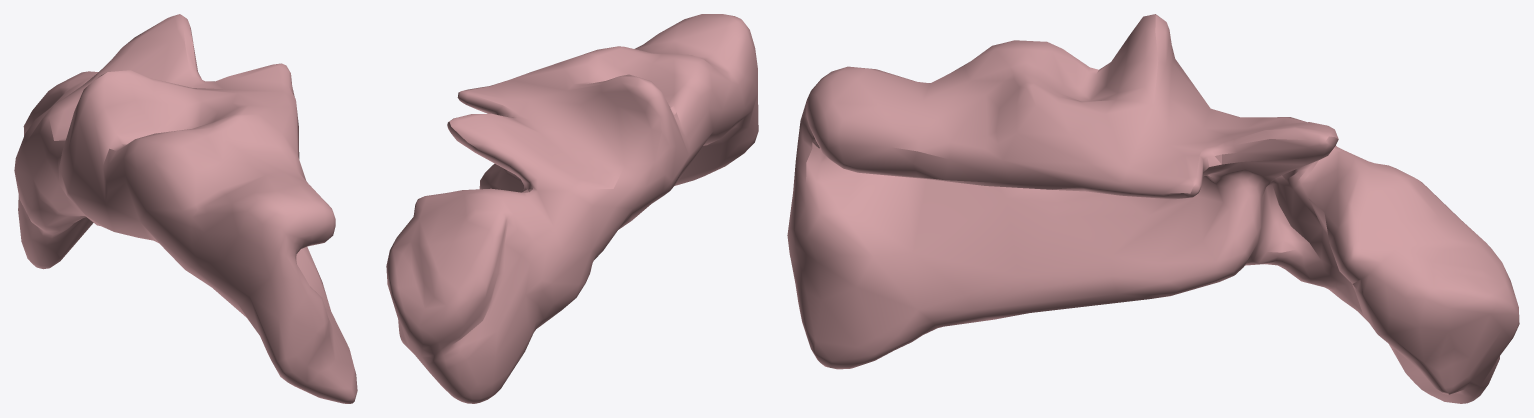
The model's file is fma72804_fj1840.glb.
3 renders of one model, left to right at view 1: azimuth 30°, elevation 25°; view 2: azimuth 150°, elevation 25°; view 3: azimuth 270°, elevation 25°, orthographic. The views are drawn at different scales.
Parts seen in each view (by area): view 1: FMA72804_FJ1840; view 2: FMA72804_FJ1840; view 3: FMA72804_FJ1840.
Part boxes in pixels (x1,y1,x2,y2): FMA72804_FJ1840: (14, 14, 357, 403); FMA72804_FJ1840: (386, 14, 758, 403); FMA72804_FJ1840: (787, 14, 1519, 403).
Size of the model in its own units: 0.0319 by 0.0389 by 0.0739.
